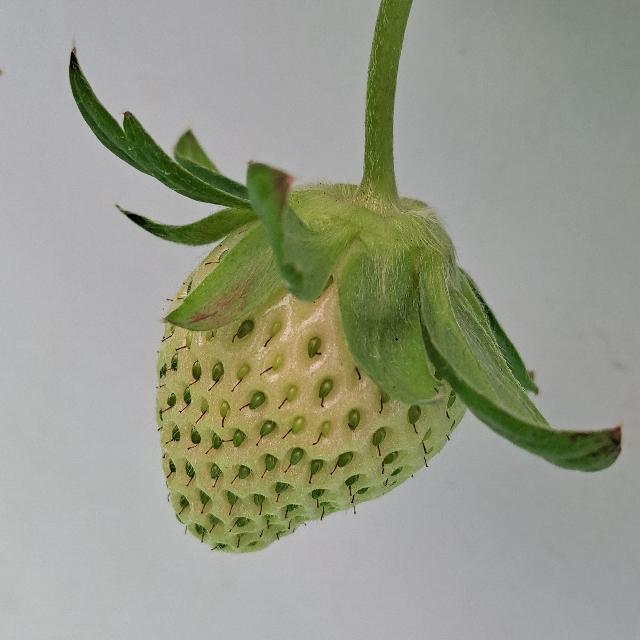Health_25: (156, 219, 467, 553)
